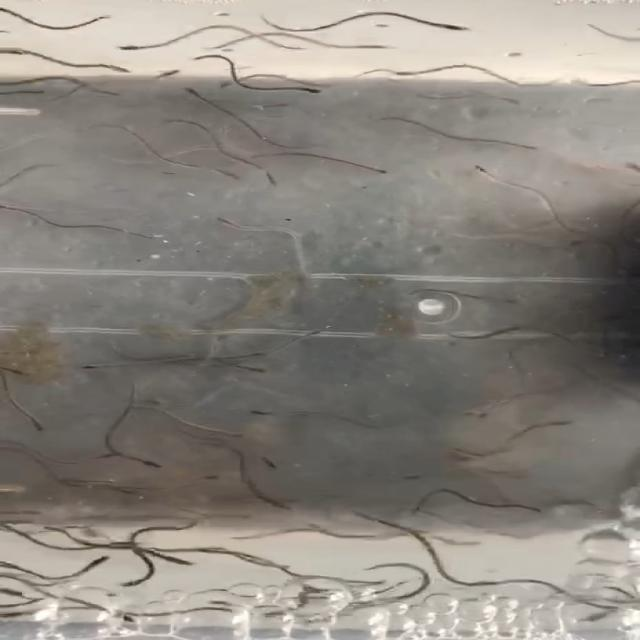active_glass_eel: (403, 9, 485, 38), (188, 205, 256, 238), (245, 155, 293, 192), (84, 572, 160, 594), (477, 137, 551, 158), (108, 607, 165, 634), (202, 162, 255, 190), (72, 83, 130, 108), (293, 79, 336, 112), (168, 83, 227, 106), (109, 38, 164, 59), (243, 396, 279, 427), (463, 158, 509, 182), (253, 495, 304, 516), (100, 62, 146, 84), (148, 551, 203, 569), (352, 38, 404, 56), (202, 426, 260, 442), (481, 93, 525, 114), (78, 556, 129, 574), (543, 415, 581, 439), (498, 320, 534, 344), (0, 195, 33, 221), (372, 70, 442, 82), (185, 546, 236, 562), (128, 395, 190, 408), (368, 158, 399, 183), (35, 524, 85, 539), (473, 577, 514, 594), (67, 358, 101, 378), (293, 325, 338, 340), (522, 501, 554, 520), (79, 10, 121, 24), (132, 457, 174, 471), (460, 408, 492, 426), (162, 66, 192, 85), (228, 366, 277, 377), (100, 448, 132, 464), (306, 524, 338, 540), (229, 349, 270, 361), (192, 468, 226, 482), (25, 422, 50, 436)
